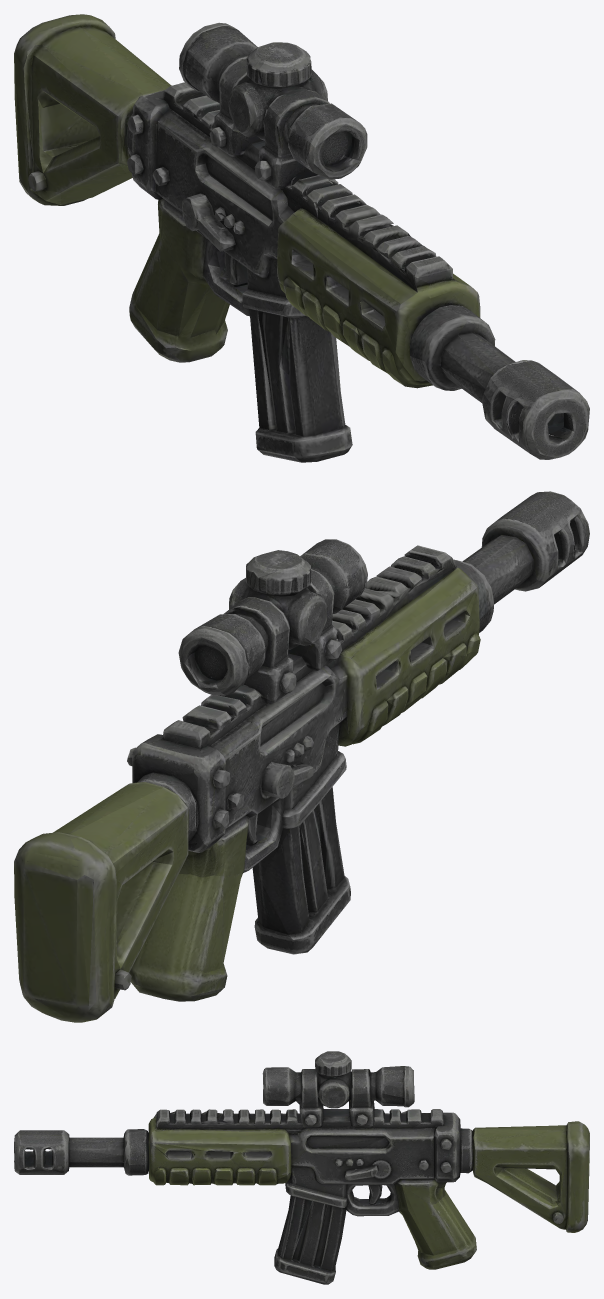
Rendered from gun_trey.glb.
The picture shows the model from 3 angles, top to bottom: view 1: azimuth 30°, elevation 25°; view 2: azimuth 150°, elevation 25°; view 3: azimuth 270°, elevation 25°; orthographic projection. The views are drawn at different scales.
Size of the model in its own units: 0.1581 by 0.6083 by 1.42.
1 material, 1 textured.
